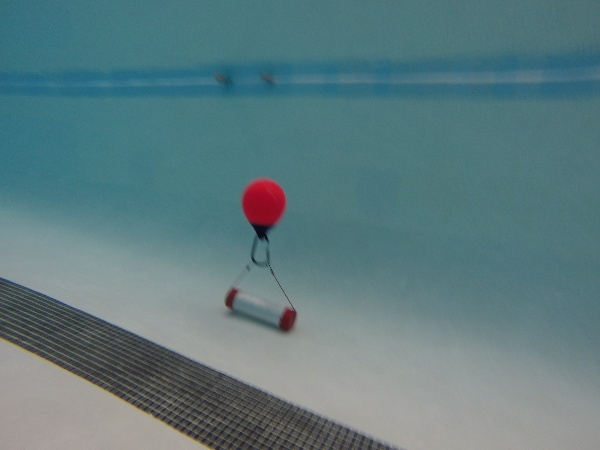buoy_red: (238, 177, 289, 242)
